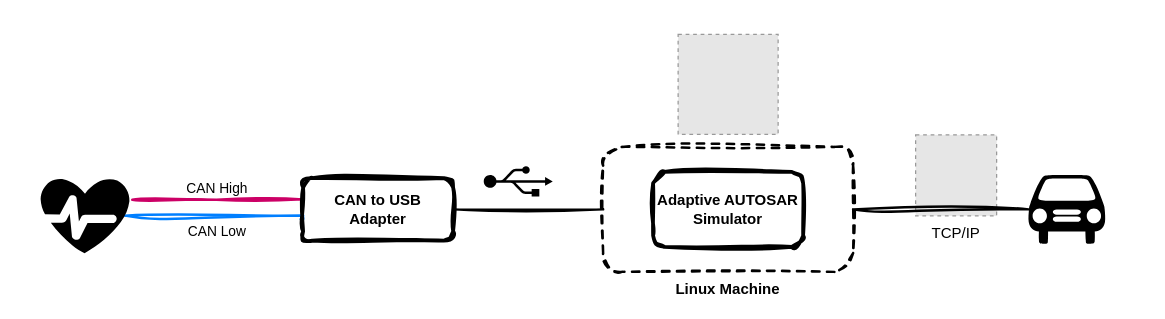
Image size: 1165x319. Some labels were removed from this diagram. Grey dashed boxes stand in for pictures. Each missing label, with the centre of its shape:
OBD-II Diagnostic Device: the point at 84,215
Volvo Cars Extended Vehicle API: the point at 1066,208
